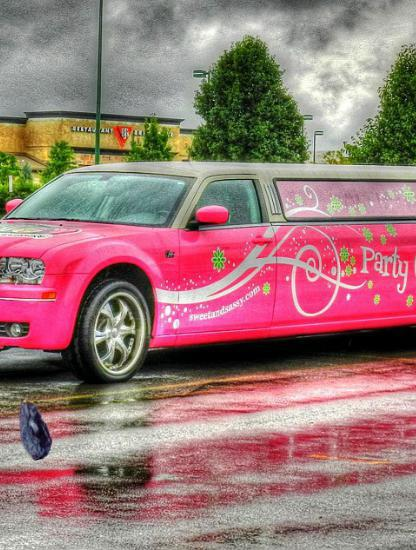Dates: (4, 400, 65, 461)
